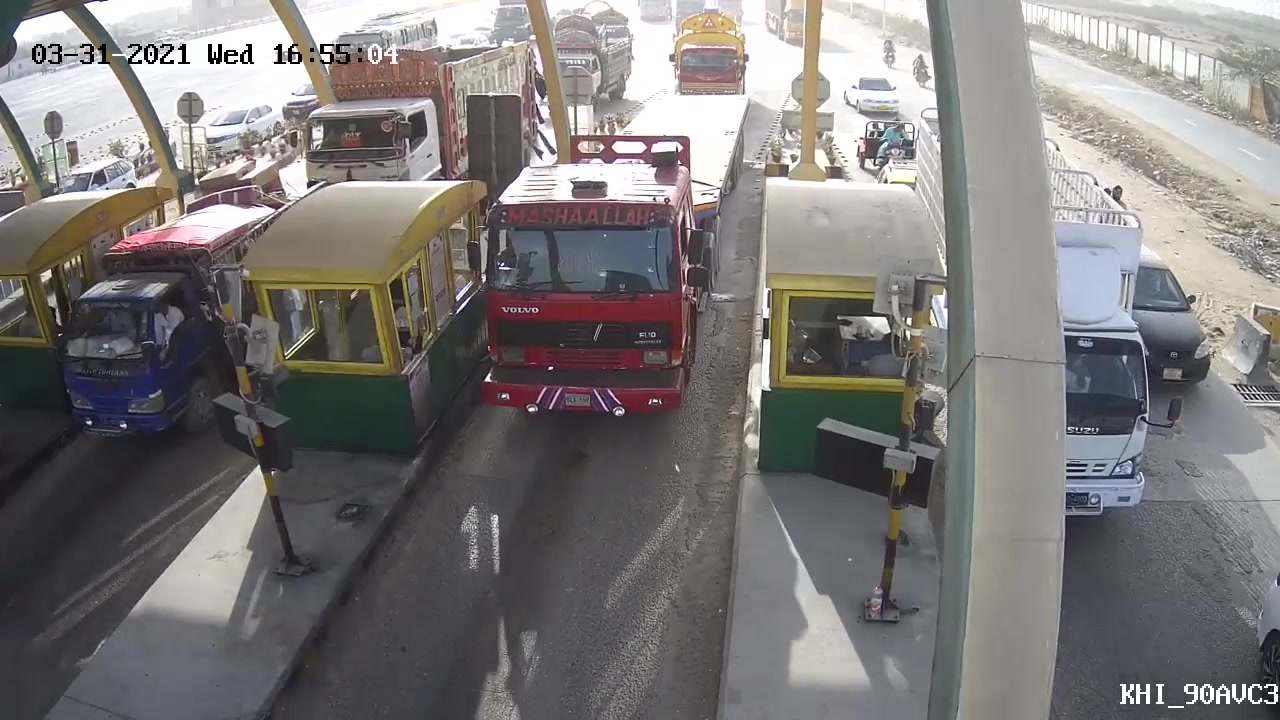F5: (474, 85, 743, 430)
